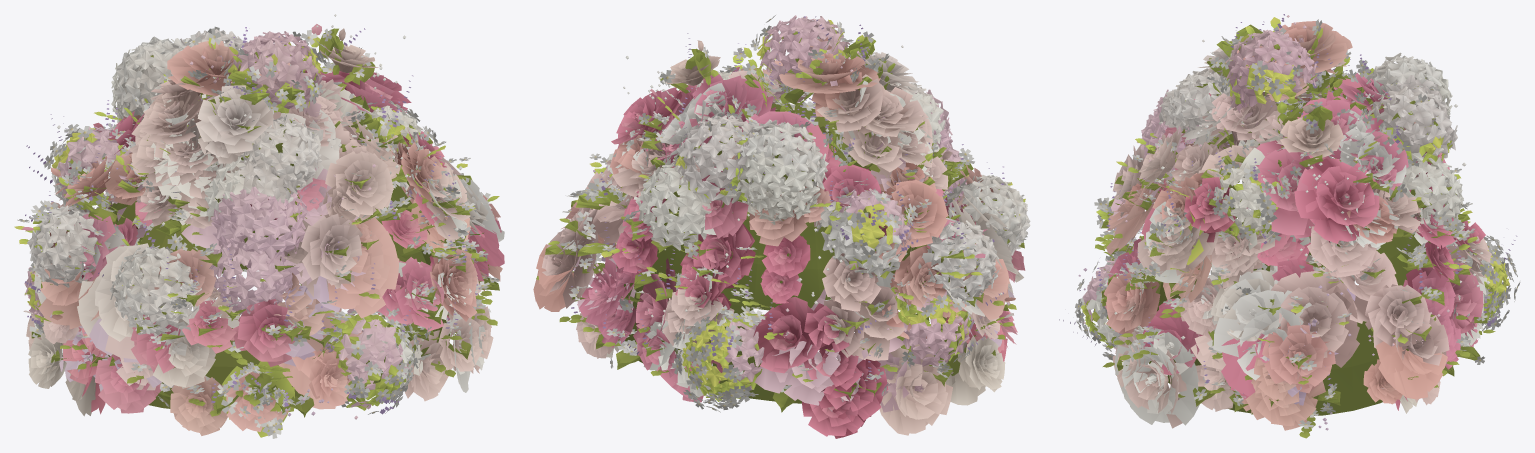
The model's file is kk1002B_mound_c.glb.
The picture shows the model from 3 angles, left to right: view 1: azimuth 30°, elevation 25°; view 2: azimuth 150°, elevation 25°; view 3: azimuth 270°, elevation 25°; orthographic projection. The views are drawn at different scales.
Visible parts, largest first — view 1: petals; view 2: petals; view 3: petals.
Part boxes in pixels (x1=…): petals: x1=14, y1=14, x2=504, y2=438; petals: x1=533, y1=15, x2=1030, y2=438; petals: x1=1059, y1=14, x2=1520, y2=438.
Size of the model in its own units: 0.0154 by 0.0109 by 0.0134.
